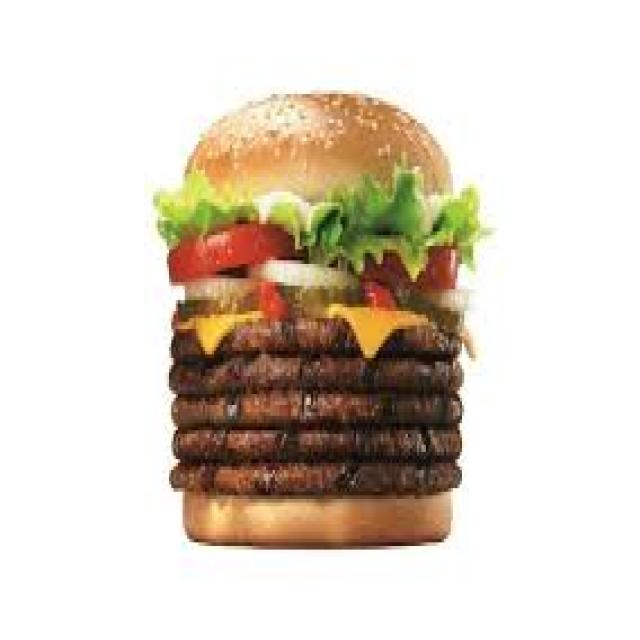햄버거: (154, 86, 471, 563)
